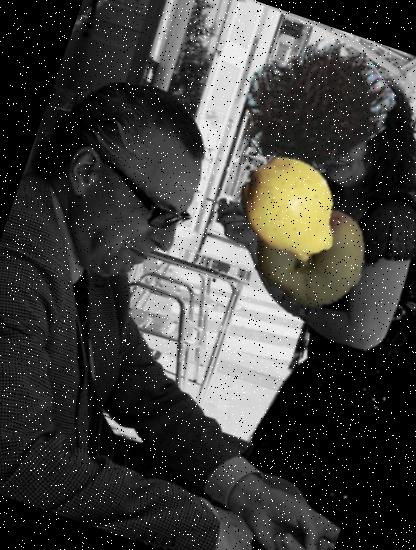Peach: (240, 184, 382, 324)
Quince: (221, 138, 361, 278)
Rambutan: (222, 13, 405, 196)
